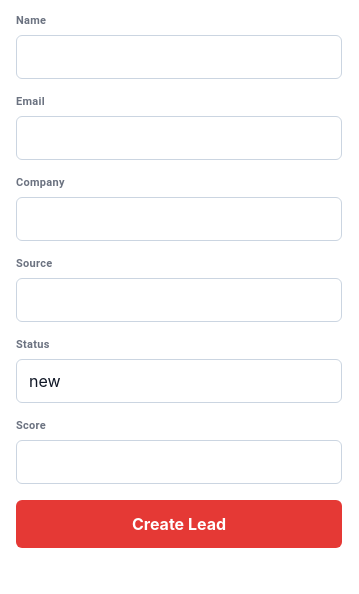
CRM lead forms › validates required lead name before create submit
Click the element with test id "crm-lead-form-submit" at (179, 524), box [16,500,342,548]
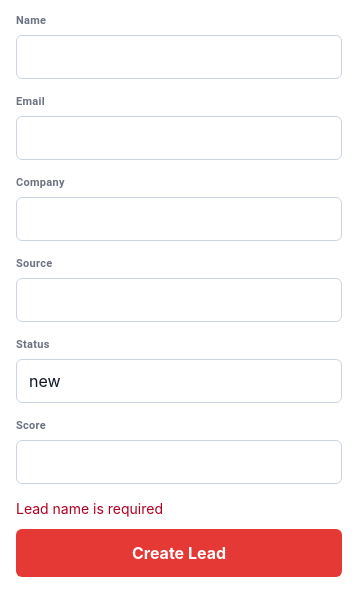
Expected: the text "Lead name is required" is shown, [16,500,163,517]
